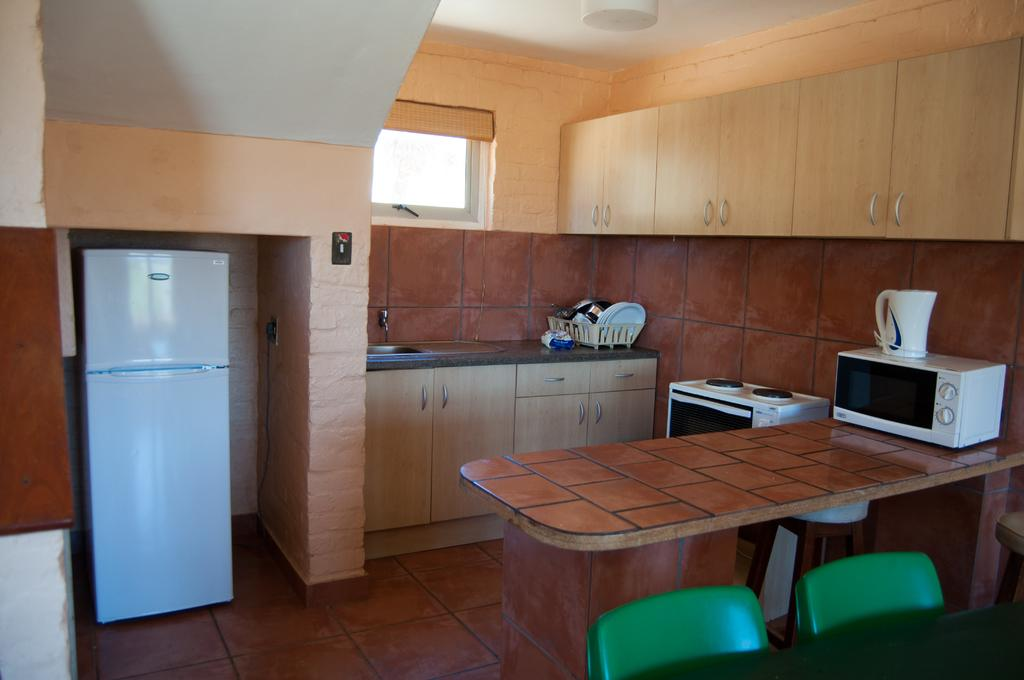cabinet_door: (886, 70, 1008, 243), (794, 83, 882, 234), (440, 375, 521, 511), (712, 102, 790, 230), (654, 102, 720, 230), (374, 376, 432, 517), (599, 124, 655, 230), (556, 124, 598, 234), (591, 387, 652, 445), (541, 395, 589, 456), (526, 364, 588, 394), (589, 354, 639, 387)
handle: (104, 351, 209, 384), (606, 370, 642, 388), (891, 187, 908, 225), (439, 380, 452, 418), (718, 194, 734, 224), (576, 400, 590, 433), (864, 193, 878, 223), (590, 401, 604, 427), (601, 203, 616, 226), (706, 200, 718, 226), (418, 386, 428, 415), (594, 203, 604, 225), (553, 373, 569, 386)
